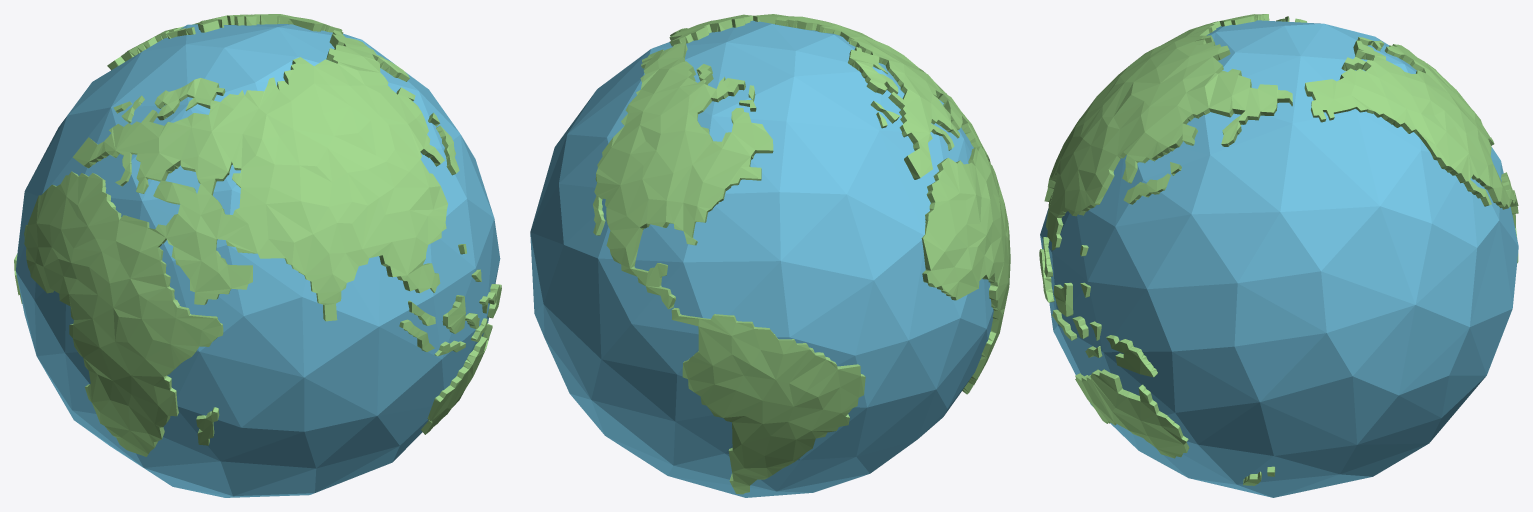
The model's file is earth_planet.glb.
The picture shows the model from 3 angles, left to right: view 1: azimuth 30°, elevation 25°; view 2: azimuth 150°, elevation 25°; view 3: azimuth 270°, elevation 25°; orthographic projection.
Visible parts, largest first — view 1: 3DSMeshMatrix (×2); view 2: 3DSMeshMatrix (×2); view 3: 3DSMeshMatrix (×2).
Boxes of the visible parts, <box> form: 3DSMeshMatrix (×2): <box>14,14,501,497</box>; 3DSMeshMatrix (×2): <box>530,14,1010,497</box>; 3DSMeshMatrix (×2): <box>1039,14,1518,497</box>.
Bounding box in the file's own units: 206 × 206 × 207.
